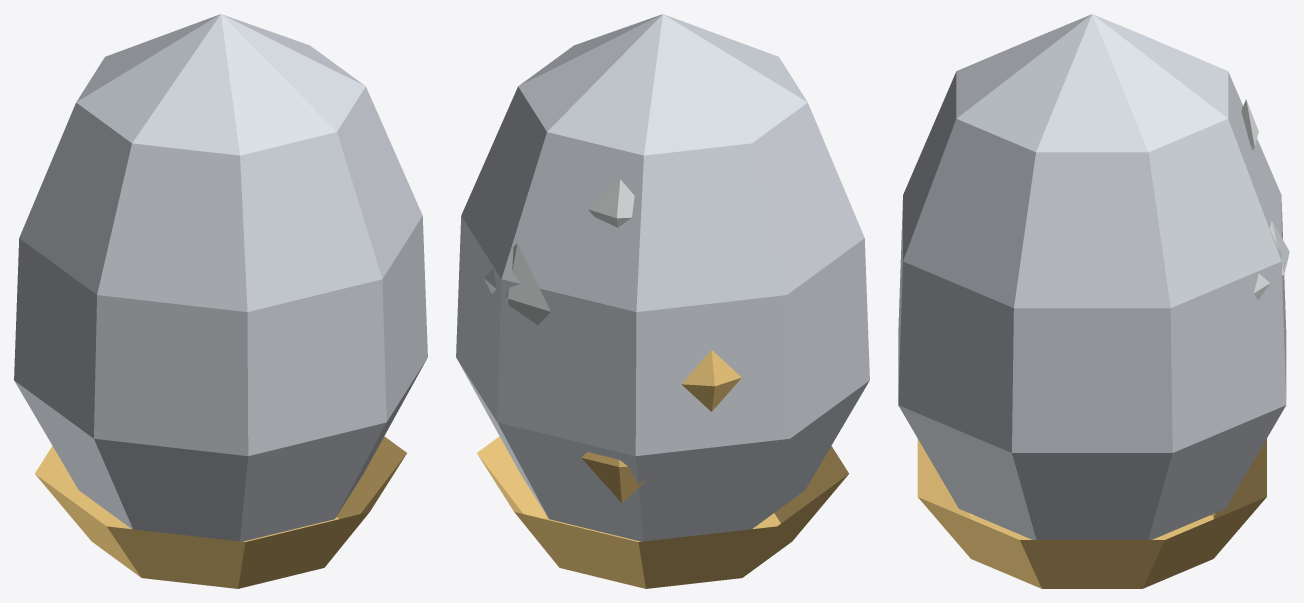
File: PetEgg.obj
3 views of the same model, side by side, from view 1: azimuth 30°, elevation 25°; view 2: azimuth 150°, elevation 25°; view 3: azimuth 270°, elevation 25° (orthographic).
Bounding box in the file's own units: 1.48 × 2.2 × 1.49.
